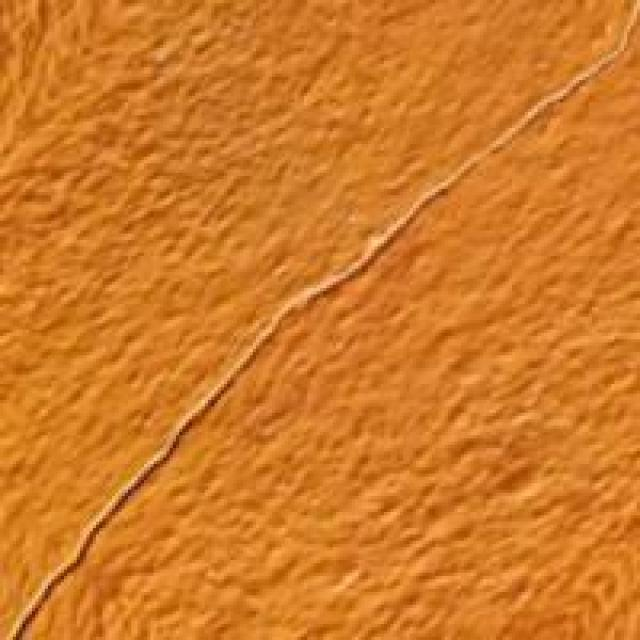Crack: (0, 217, 374, 636)
